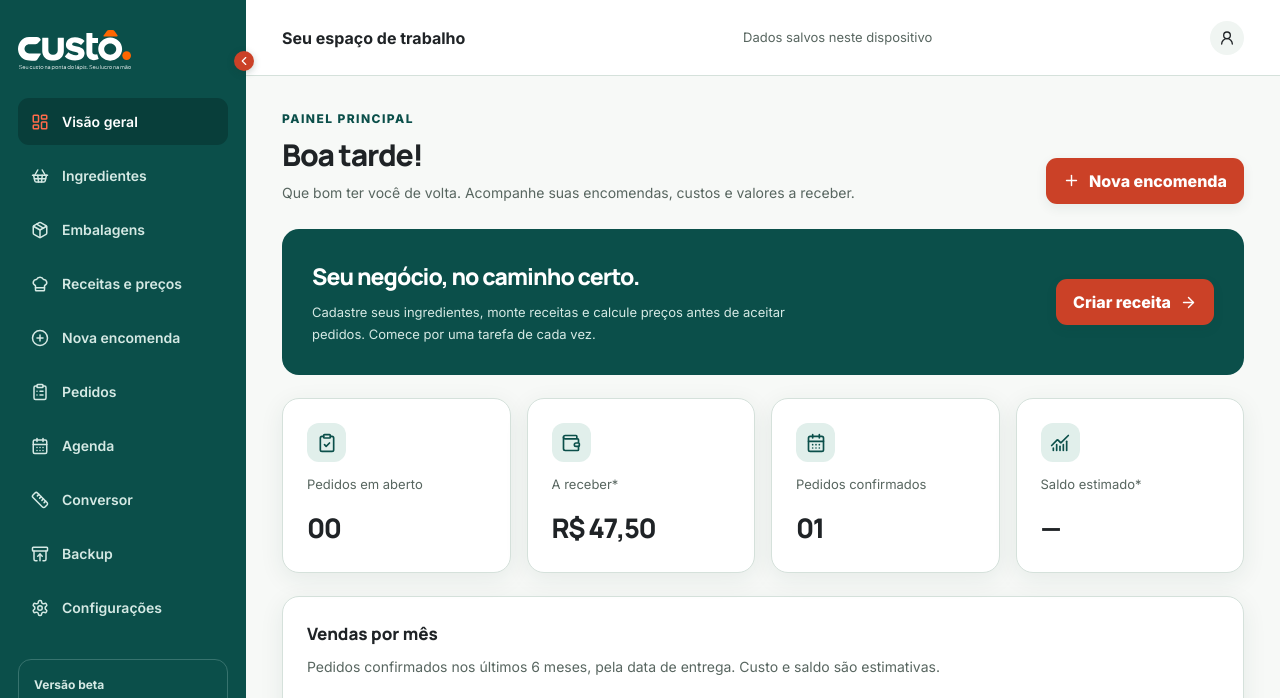
Test case: Etapa 10 — navegação e pedido › mantém encomenda legada sem cobrança retroativa e preserva recebimentos ao editar outros dados
Later steps or results of the test are not shown.
Click the button "Pedidos" at (123, 392), box top-left (18, 368), bottom-right (228, 415)
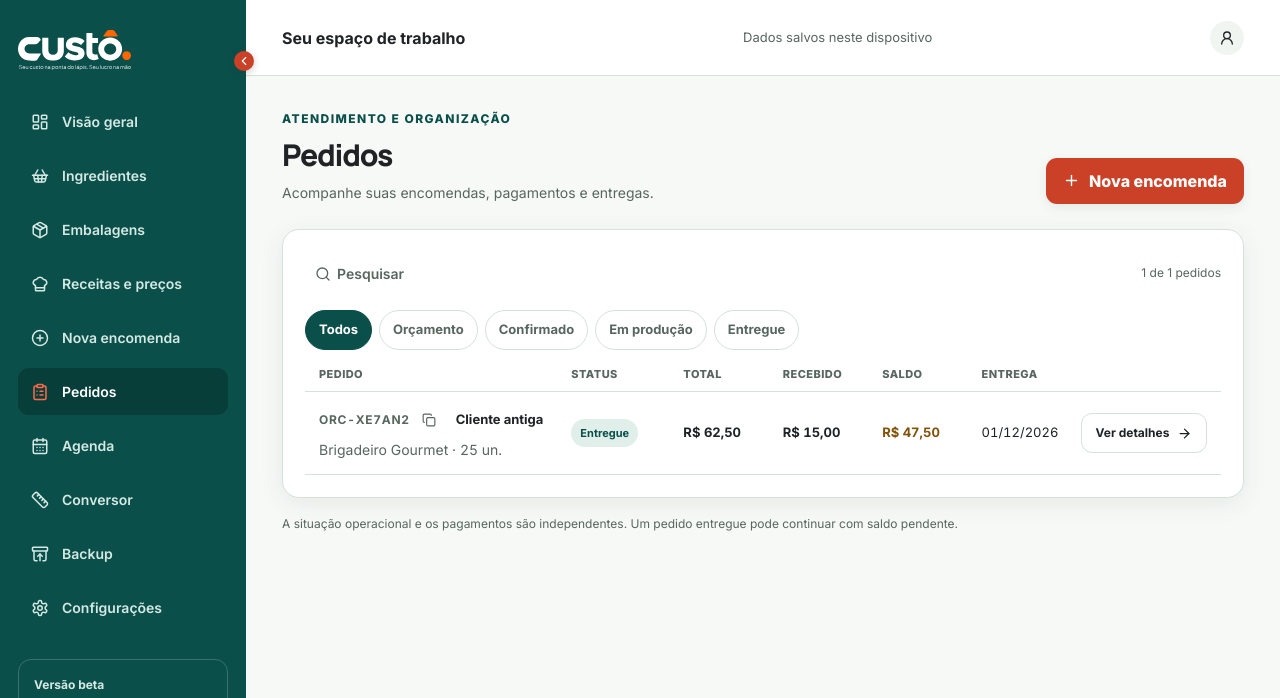
expect the text "R$ 62,50" is shown: met, box top-left (683, 424), bottom-right (741, 440)
Click the button "Ver detalhes" at (1144, 433), box top-left (1081, 413), bottom-right (1207, 453)
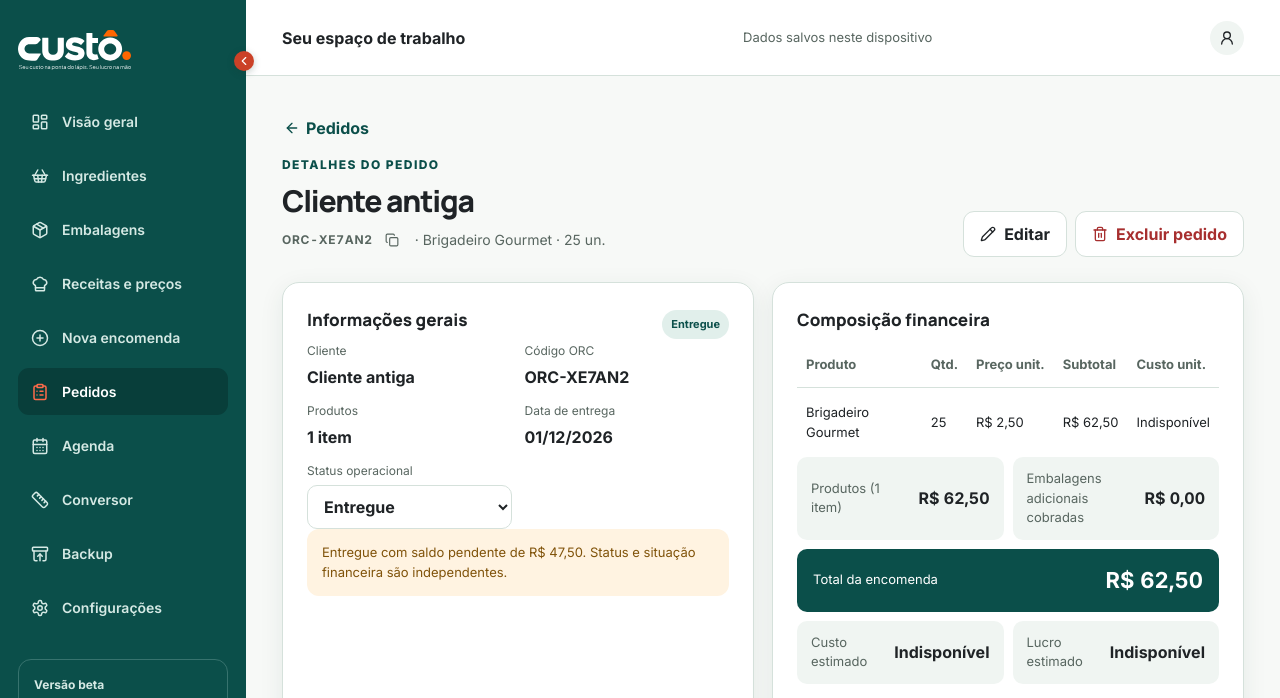
expect the text "R$ 0,00" is shown: met, box top-left (1144, 486), bottom-right (1205, 510)
